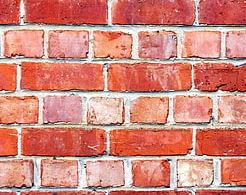brick: (108, 127, 194, 156), (107, 62, 193, 90), (20, 127, 107, 154), (20, 63, 105, 90), (110, 1, 197, 24), (28, 1, 108, 25), (193, 63, 246, 92), (195, 127, 246, 155), (136, 30, 178, 61), (39, 157, 79, 188), (129, 158, 172, 186), (183, 29, 223, 59), (47, 29, 88, 58), (92, 30, 133, 59), (85, 158, 126, 187), (1, 95, 40, 124), (3, 30, 44, 57), (176, 156, 214, 185), (43, 96, 85, 122), (129, 96, 171, 122), (1, 158, 36, 189), (199, 1, 246, 24), (87, 96, 124, 125), (172, 95, 214, 120), (216, 95, 245, 124), (219, 158, 246, 186), (227, 30, 246, 58), (1, 62, 18, 92), (1, 127, 18, 157), (1, 1, 21, 24)
